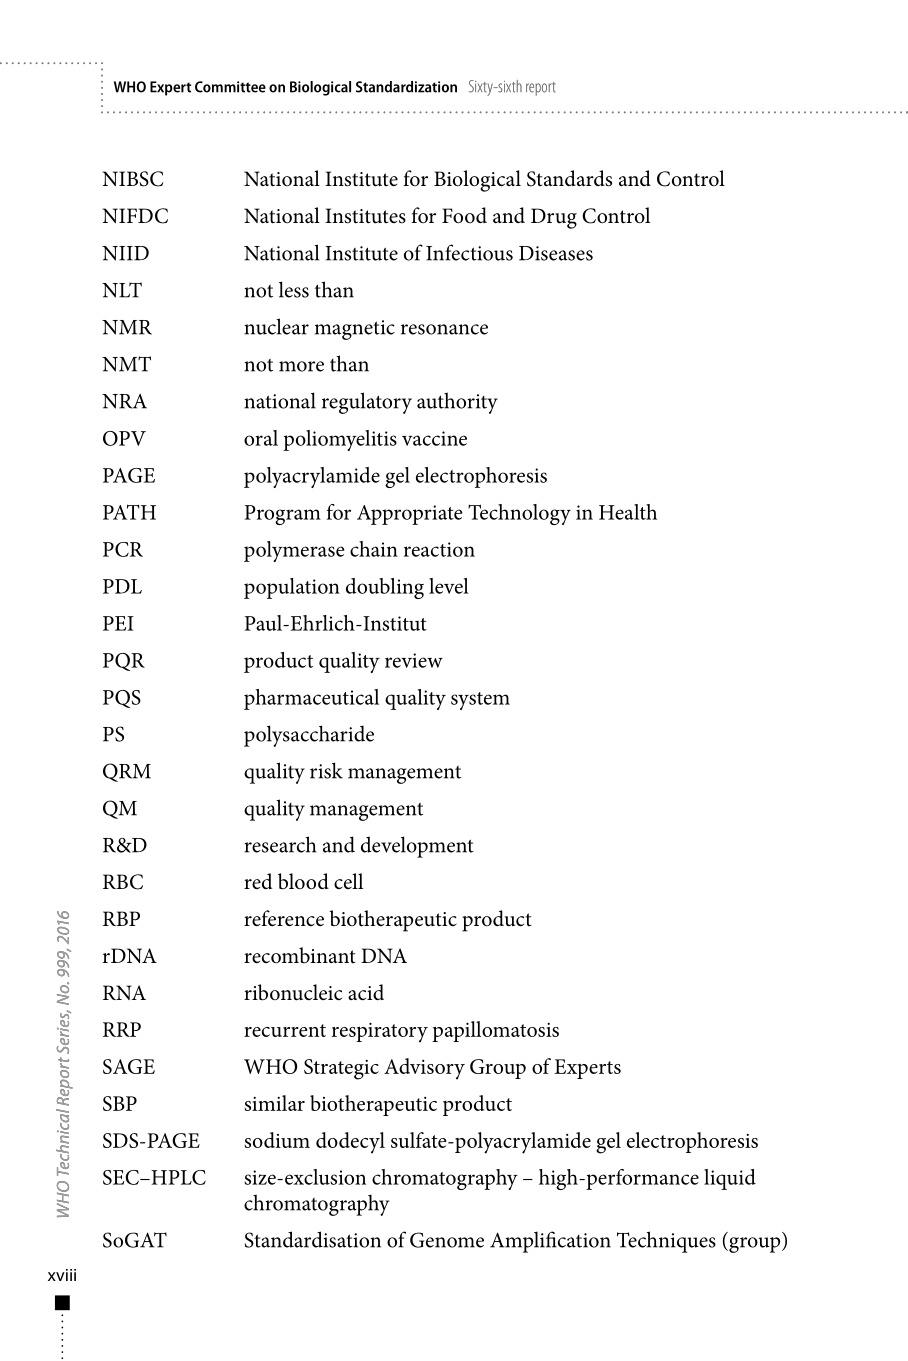nolines: (99, 167, 791, 1258)
